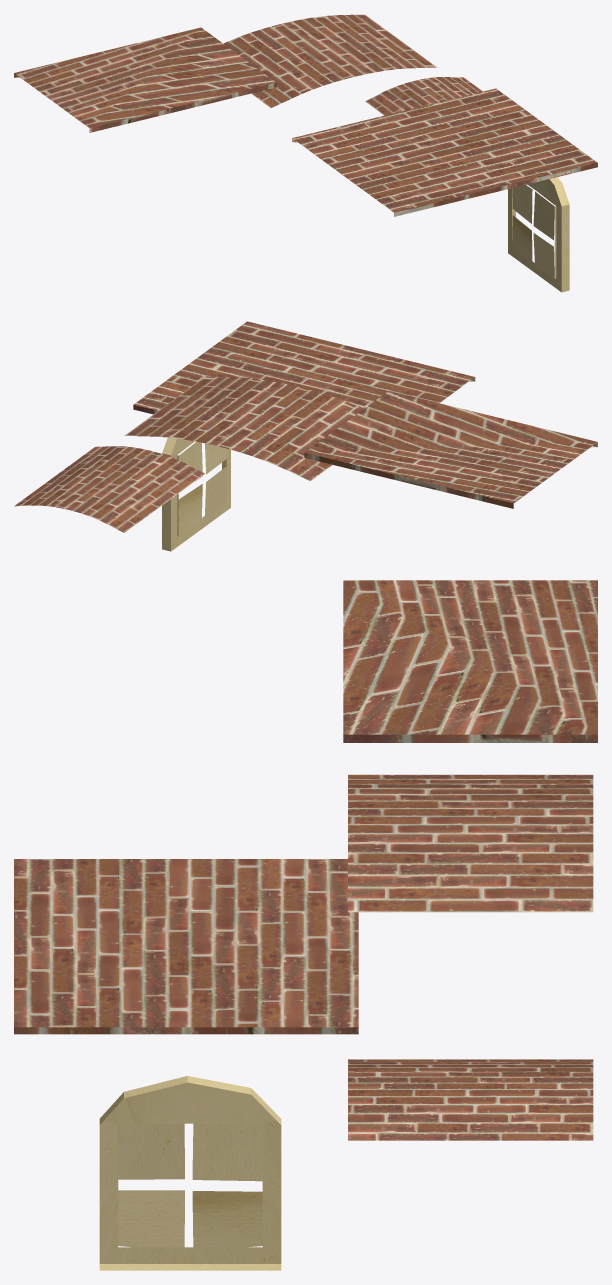
File: catedral15...bx.fbx
The picture shows the model from 3 angles, top to bottom: view 1: azimuth 30°, elevation 25°; view 2: azimuth 150°, elevation 25°; view 3: azimuth 270°, elevation 25°; orthographic projection. The views are drawn at different scales.
Visible parts, largest first — view 1: Cube.065, Cube.080; view 2: Cube.065, Cube.080; view 3: Cube.065, Cube.080.
Part boxes in pixels (bbox=[...]): Cube.065: bbox=[14, 14, 597, 216]; Cube.080: bbox=[508, 177, 569, 292]; Cube.065: bbox=[14, 321, 597, 532]; Cube.080: bbox=[162, 437, 230, 551]; Cube.065: bbox=[14, 580, 597, 1140]; Cube.080: bbox=[99, 1076, 281, 1270].
Bounding box in the file's own units: 7866 × 3507 × 5250.
